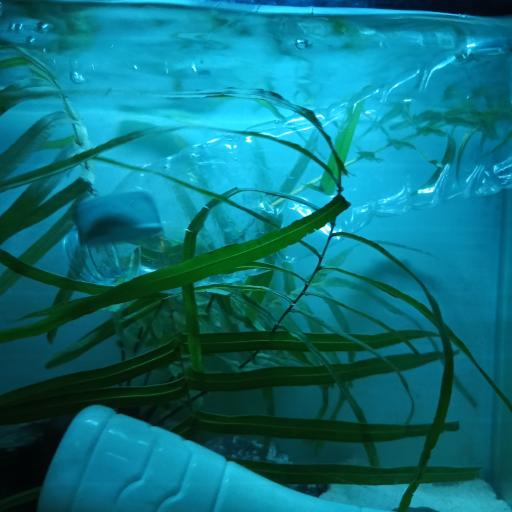bottle_cap: (71, 189, 164, 244)
plastic_bottle: (61, 44, 512, 285), (33, 400, 386, 512)
